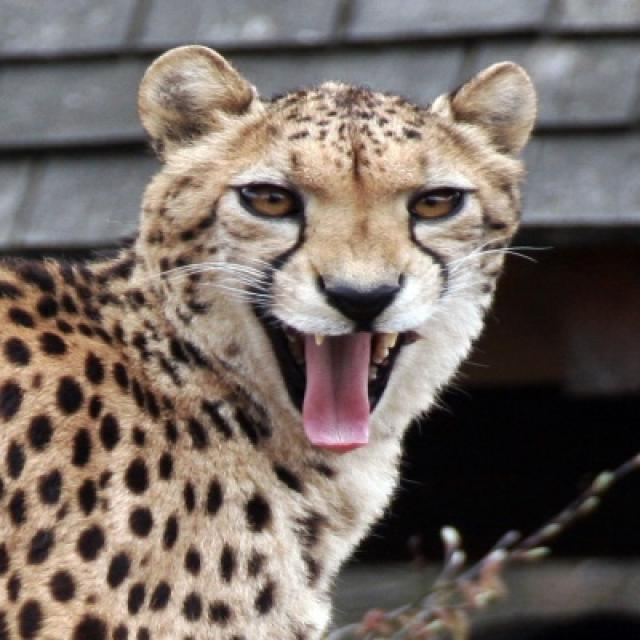Cheetah: (0, 45, 536, 638)
